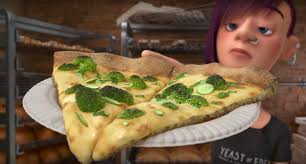pizza: (41, 59, 257, 163)
